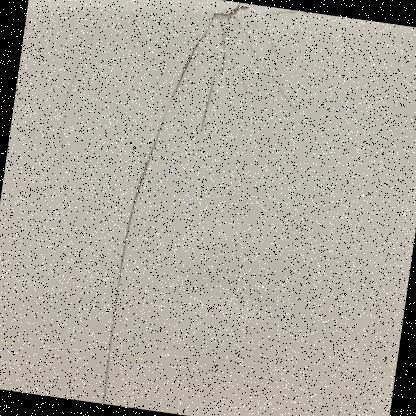Crack: (63, 0, 351, 415)
